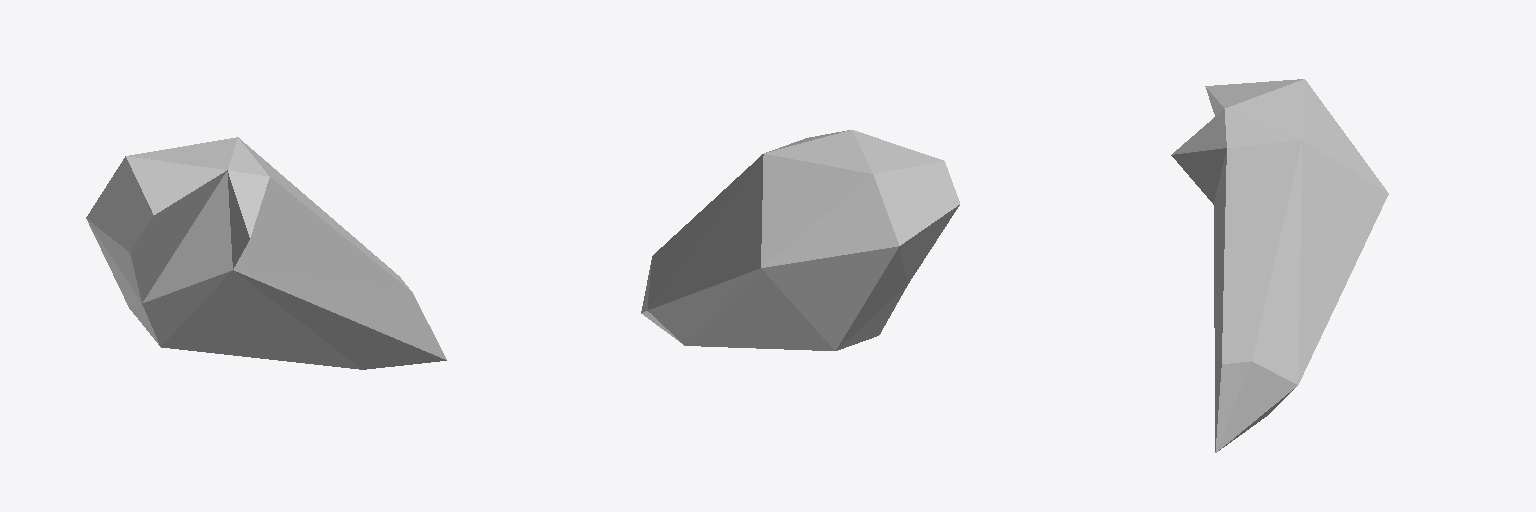
File: toad_b_der.obj
3 renders of one model, left to right at view 1: azimuth 30°, elevation 25°; view 2: azimuth 150°, elevation 25°; view 3: azimuth 270°, elevation 25°, orthographic.
Parts seen in each view (by area): view 1: Nemu_0_0_53; view 2: Nemu_0_0_53; view 3: Nemu_0_0_53.
Boxes of the visible parts, x1=… form: Nemu_0_0_53: x1=86, y1=137, x2=446, y2=369; Nemu_0_0_53: x1=641, y1=130, x2=959, y2=350; Nemu_0_0_53: x1=1171, y1=79, x2=1388, y2=452.
Bounding box in the file's own units: 1.55 × 1.12 × 0.9207.